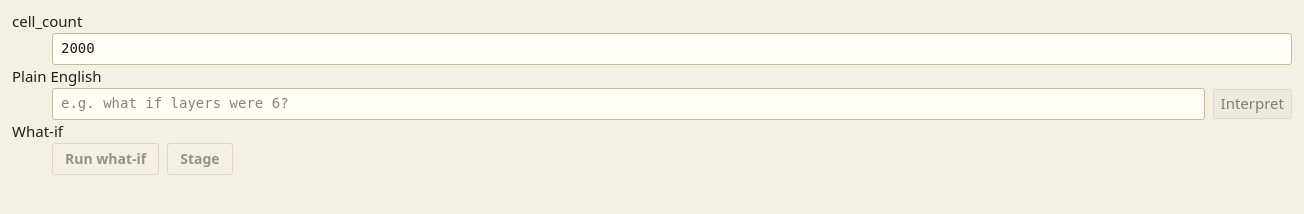
Scenario: WhatIfEditor › says plainly when plain English names no known setting
The width and height of the screenshot is (1304, 214).
Type "make it bigger" into the field named "Describe the change in plain English" at (628, 104), box [52,88,1205,120]
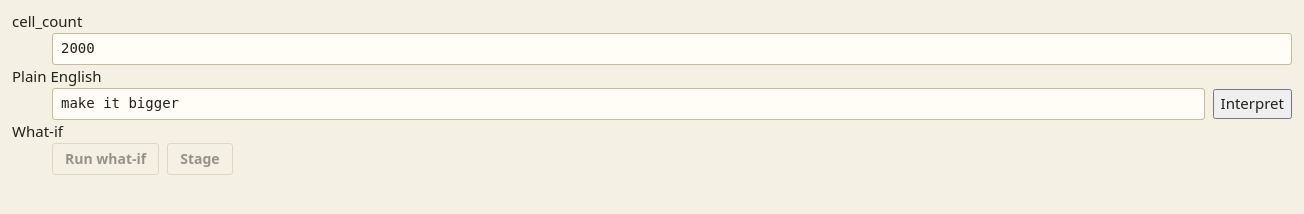
Click the button "Interpret" at (1252, 104), box [1213,89,1292,119]
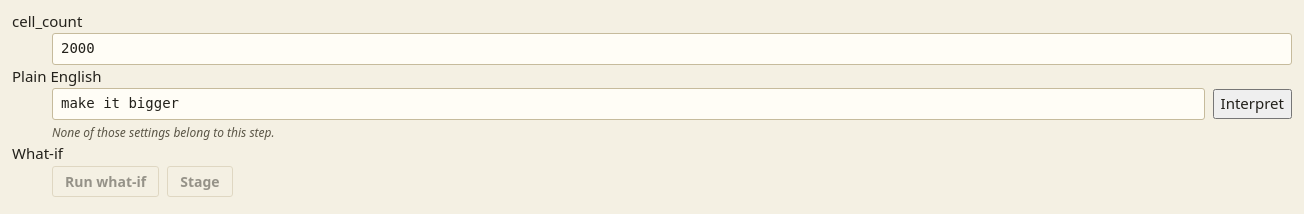
Expected: the field named "cell_count" holds "2000", [52,33,1292,65]
Now the text "None of those settings belong to this step." is shown, box [52,124,275,141]
